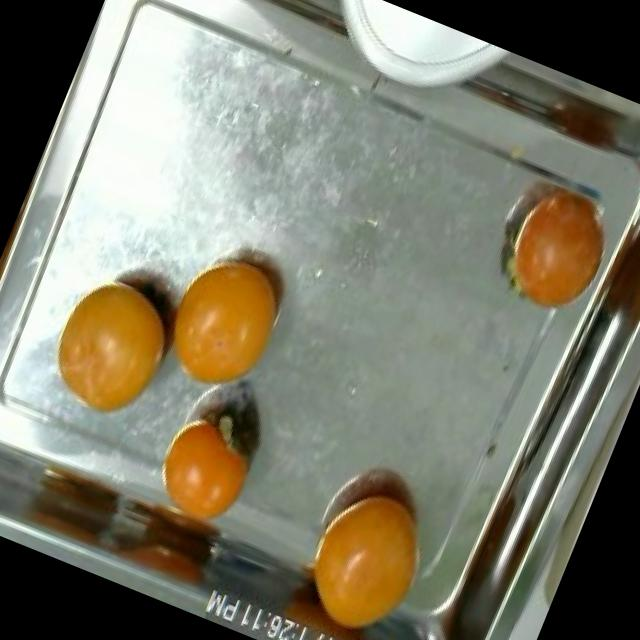Fruit: (142, 224, 313, 420), (278, 459, 458, 640), (28, 254, 200, 442), (461, 156, 629, 337), (133, 386, 281, 540), (0, 433, 142, 574)
